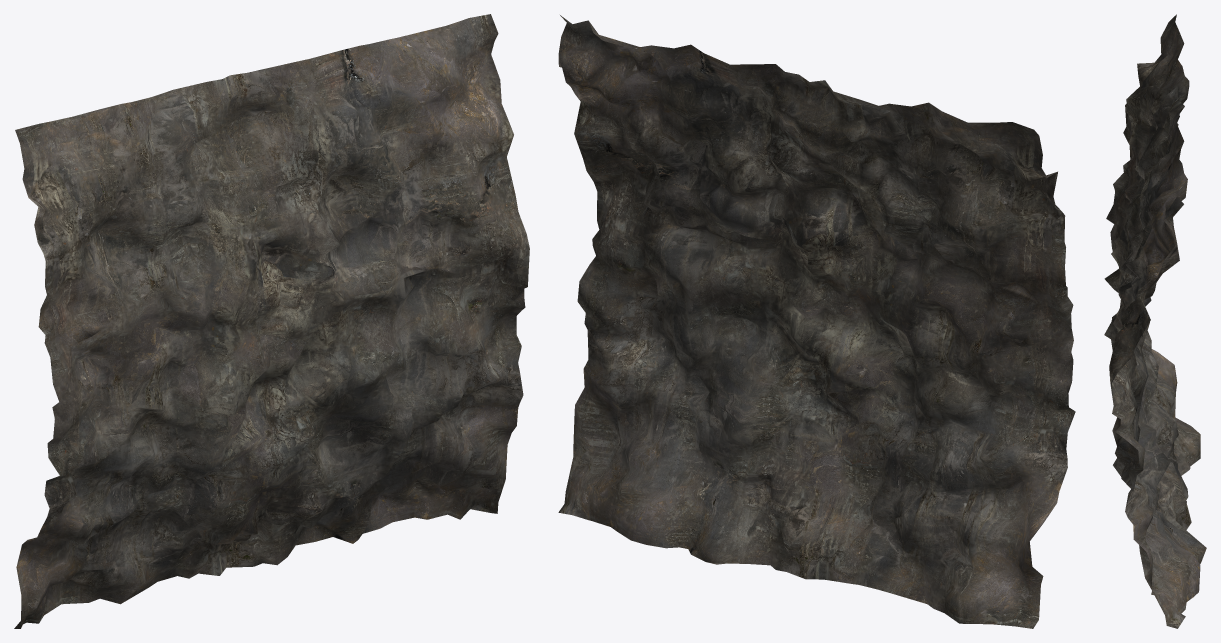
Rendered from Wall_2.fbx.
3 views of the same model, side by side, from view 1: azimuth 30°, elevation 25°; view 2: azimuth 150°, elevation 25°; view 3: azimuth 270°, elevation 25° (orthographic). The views are drawn at different scales.
Visible parts, largest first — view 1: Wall_2; view 2: Wall_2; view 3: Wall_2.
Part boxes in pixels (left/top/right/bottom): Wall_2: left=14, top=14, right=529, bottom=628; Wall_2: left=558, top=15, right=1075, bottom=628; Wall_2: left=1104, top=14, right=1206, bottom=628.
Size of the model in its own units: 406 by 404 by 88.94.
